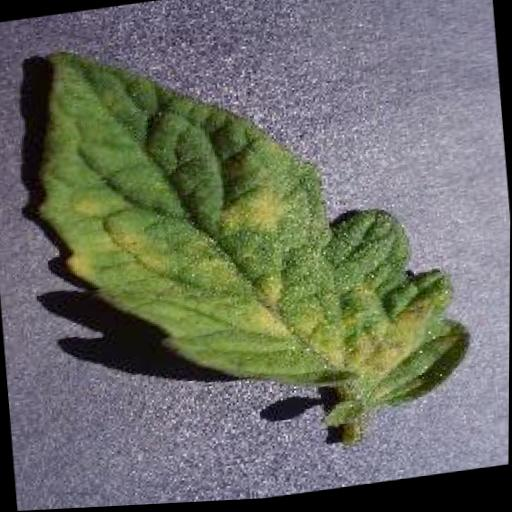Leaf Mold: (20, 0, 476, 453)
